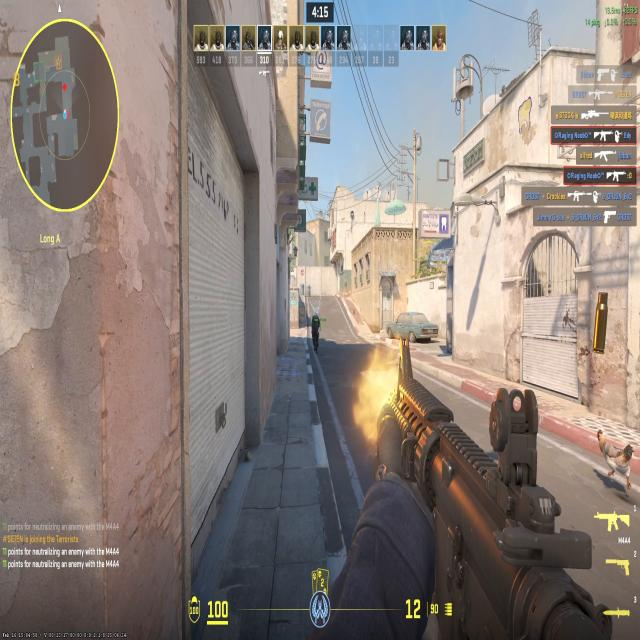player: (308, 306, 324, 355)
